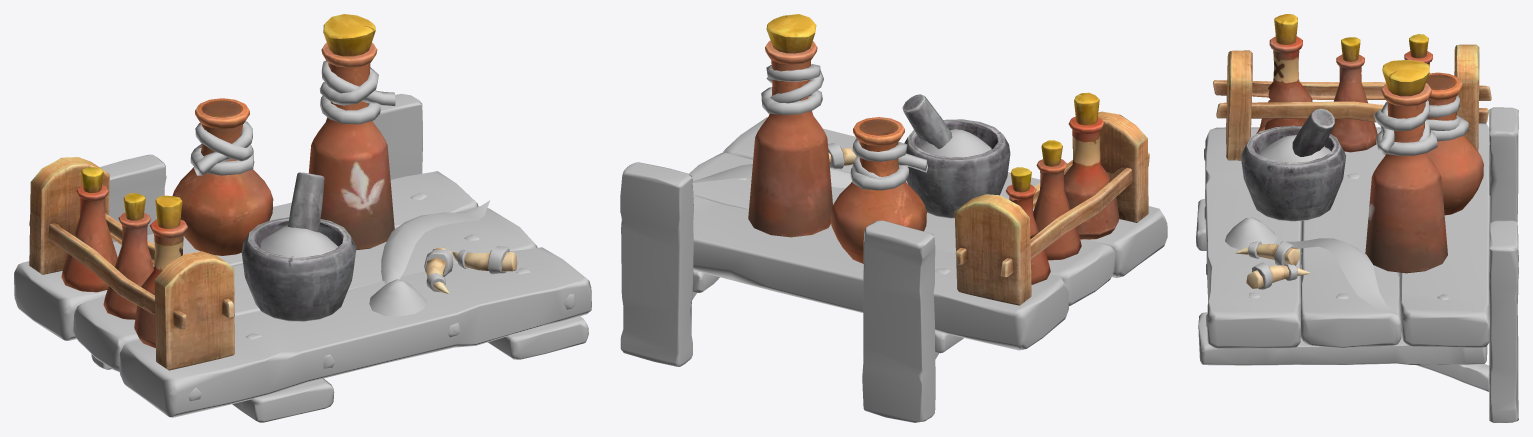
3 renders of one model, left to right at view 1: azimuth 30°, elevation 25°; view 2: azimuth 150°, elevation 25°; view 3: azimuth 270°, elevation 25°, orthographic. The views are drawn at different scales.
Visible parts, largest first — view 1: SM_Laboratory_Kit_Decoration_01_LOD0; view 2: SM_Laboratory_Kit_Decoration_01_LOD0; view 3: SM_Laboratory_Kit_Decoration_01_LOD0.
Boxes of the visible parts, x1,y1,x2,y2 form: SM_Laboratory_Kit_Decoration_01_LOD0: (14,14,591,422); SM_Laboratory_Kit_Decoration_01_LOD0: (620,14,1167,422); SM_Laboratory_Kit_Decoration_01_LOD0: (1196,14,1518,422).
Bounding box in the file's own units: 0.6021 × 0.4512 × 0.4308.
